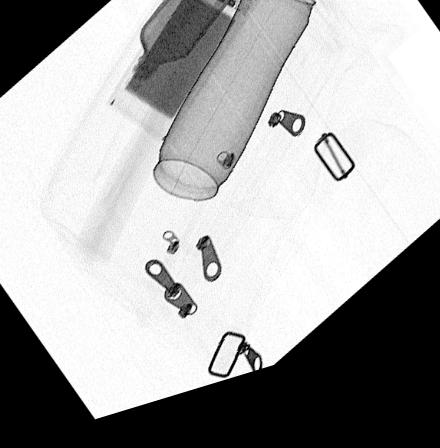Powerbank: (104, 0, 262, 150)
